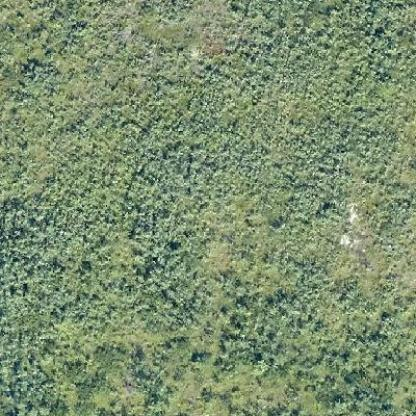tree-top: (352, 380, 390, 410), (332, 390, 349, 413), (166, 239, 188, 255)
